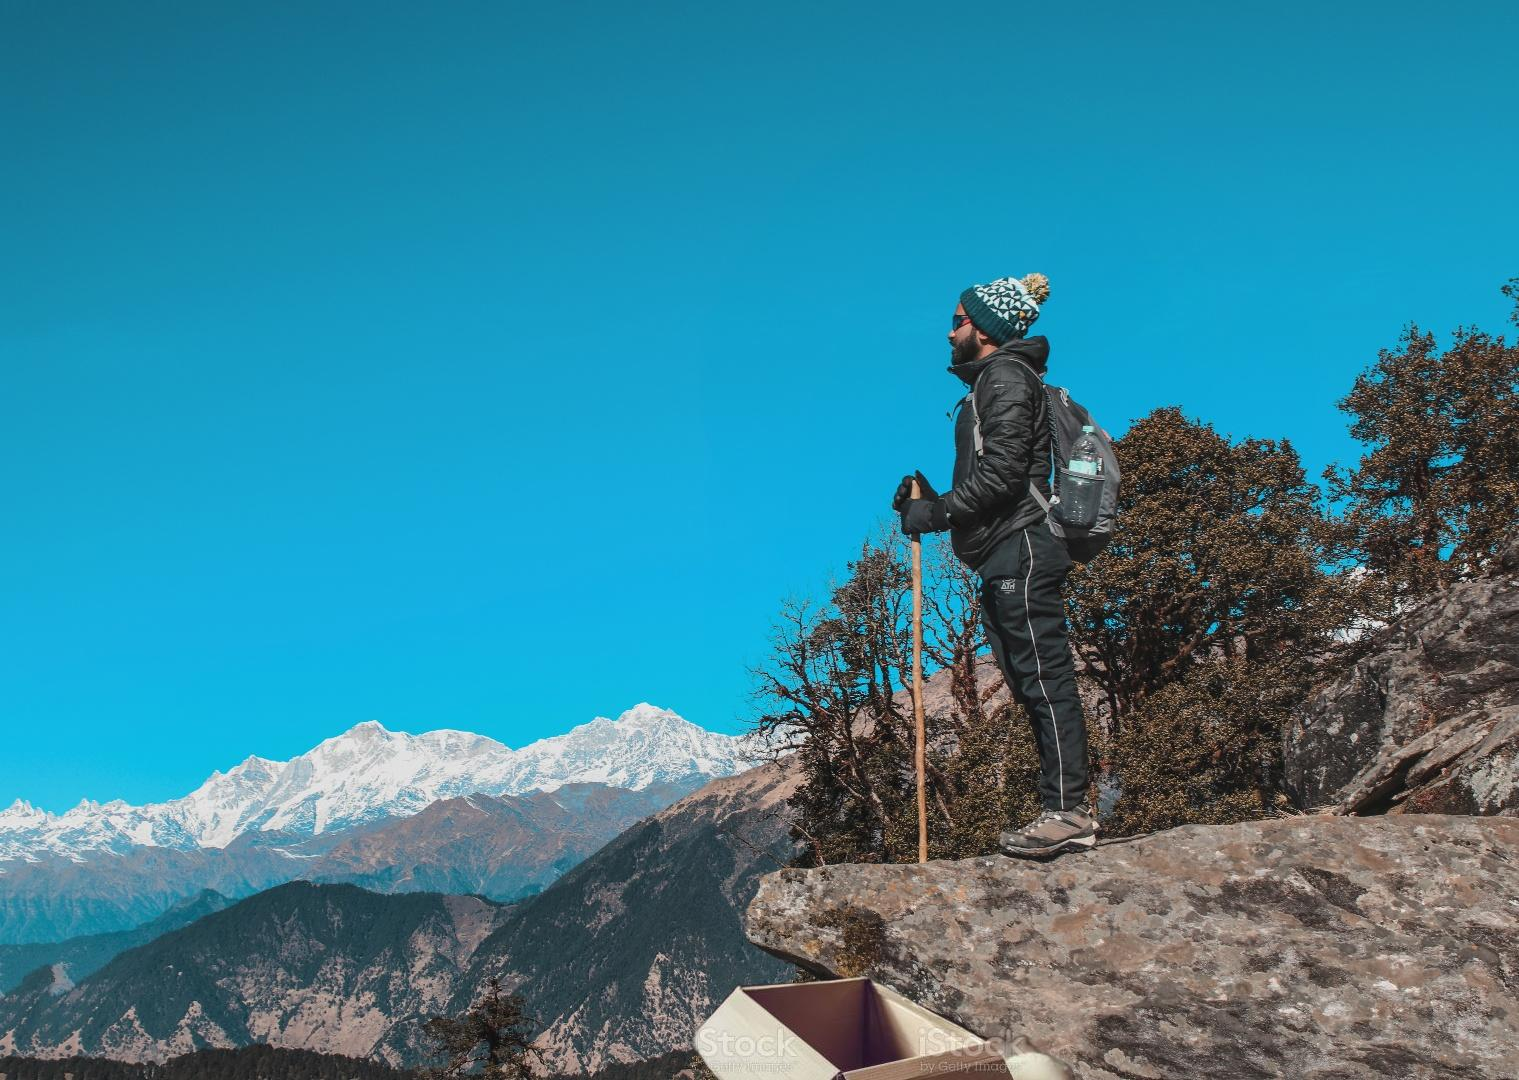trashbox-cardboard: (686, 972, 1243, 1080)
